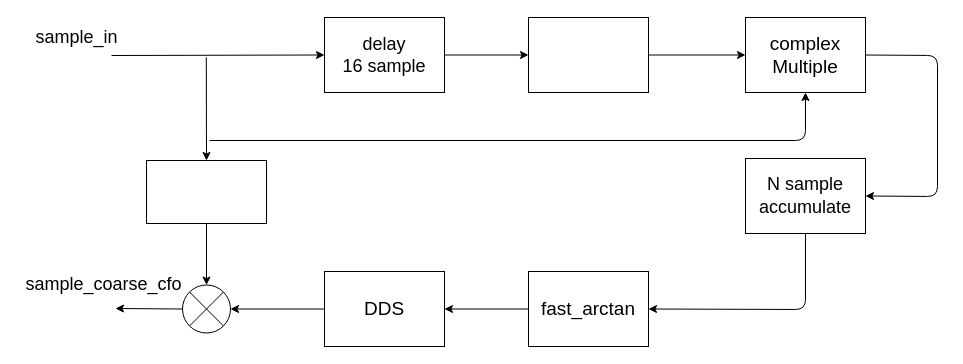
Image size: 963x364. Some labels were removed from this diagram. Each missing label, with the box of its shape:
Conjugate: (528, 16, 648, 92)
delay 256 sample: (146, 160, 266, 224)
